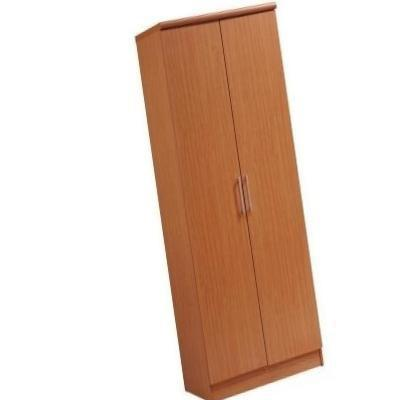Armario: (120, 2, 323, 394)
